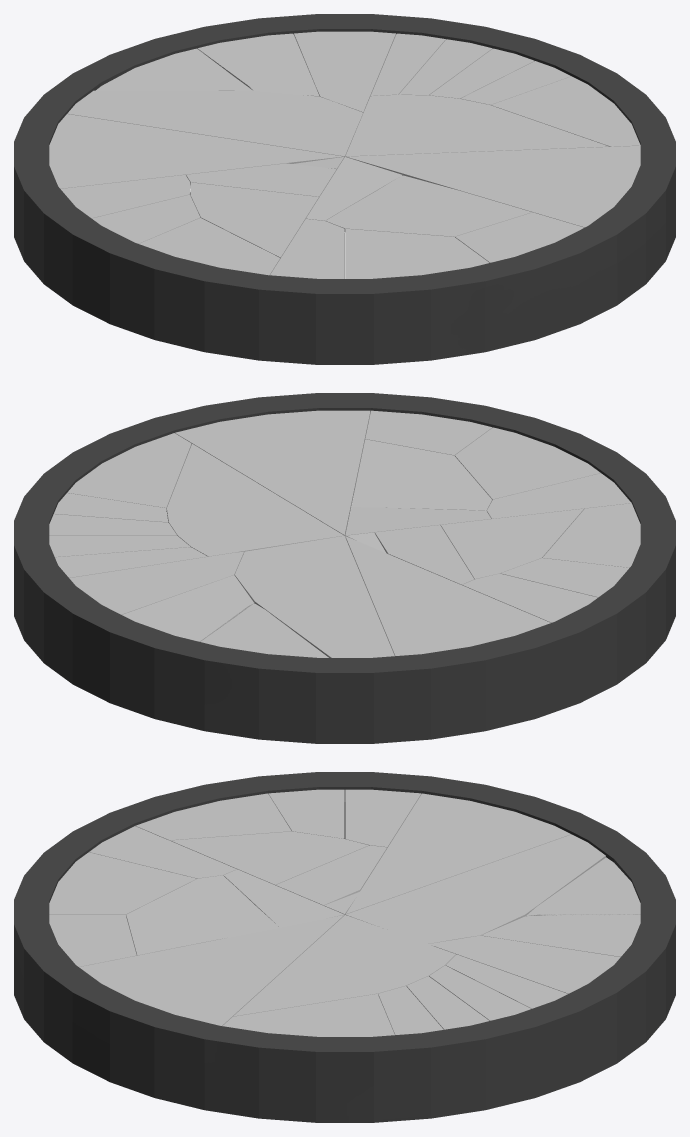
The model's file is BrokenClock.fbx.
3 views of the same model, one above another, from view 1: azimuth 30°, elevation 25°; view 2: azimuth 150°, elevation 25°; view 3: azimuth 270°, elevation 25° (orthographic).
Visible parts, largest first — view 1: Clock, Glass_cell.002, Glass_cell.004_cell.003, Glass_cell.001, Glass_cell.005_cell.004, Glass_cell_cell.003, Glass_cell.003_cell.001, Glass_cell.004_cell.002, Glass_cell_cell, Glass_cell.005_cell.002, Glass_cell.004_cell.004, Glass_cell.003_cell.003 (+11 smaller); view 2: Clock, Glass_cell.002, Glass_cell.004_cell.003, Glass_cell.001, Glass_cell.005_cell.004, Glass_cell_cell.003, Glass_cell_cell, Glass_cell.003_cell.001, Glass_cell.004_cell.002, Glass_cell.005_cell.002, Glass_cell.004_cell.004, Glass_cell.003_cell.003 (+11 smaller); view 3: Clock, Glass_cell.002, Glass_cell.004_cell.003, Glass_cell.001, Glass_cell.005_cell.004, Glass_cell_cell.003, Glass_cell_cell, Glass_cell.003_cell.001, Glass_cell.004_cell.002, Glass_cell.005_cell.002, Glass_cell.004_cell.004, Glass_cell.003_cell.003 (+11 smaller).
Part boxes in pixels (box(x1,y1,x2,y2)): Clock: box(14, 14, 675, 364); Glass_cell.002: box(346, 145, 640, 227); Glass_cell.004_cell.003: box(67, 90, 363, 157); Glass_cell.001: box(49, 114, 343, 188); Glass_cell.005_cell.004: box(345, 94, 609, 156); Glass_cell_cell.003: box(326, 175, 532, 236); Glass_cell.003_cell.001: box(190, 182, 318, 258); Glass_cell.004_cell.002: box(294, 31, 395, 112); Glass_cell_cell: box(345, 228, 489, 278); Glass_cell.005_cell.002: box(491, 76, 640, 146); Glass_cell.004_cell.004: box(197, 33, 319, 96); Glass_cell.003_cell.003: box(139, 218, 280, 275); Clock: box(14, 393, 675, 743); Glass_cell.002: box(175, 410, 370, 535); Glass_cell.004_cell.003: box(234, 536, 394, 657); Glass_cell.001: box(345, 536, 550, 655); Glass_cell.005_cell.004: box(167, 444, 344, 556); Glass_cell_cell.003: box(351, 439, 492, 510); Glass_cell_cell: box(455, 427, 600, 500); Glass_cell.003_cell.001: box(440, 508, 584, 579); Glass_cell.004_cell.002: box(69, 551, 243, 614); Glass_cell.005_cell.002: box(67, 433, 191, 510); Glass_cell.004_cell.004: box(122, 575, 253, 641); Glass_cell.003_cell.003: box(543, 503, 640, 567); Clock: box(14, 772, 675, 1122); Glass_cell.002: box(79, 915, 344, 1025); Glass_cell.004_cell.003: box(346, 834, 605, 943); Glass_cell.001: box(345, 793, 571, 914); Glass_cell.005_cell.004: box(233, 915, 455, 1016); Glass_cell_cell.003: box(126, 875, 278, 955); Glass_cell_cell: box(49, 852, 196, 916); Glass_cell.003_cell.001: box(170, 831, 368, 885); Glass_cell.004_cell.002: box(428, 935, 620, 993); Glass_cell.005_cell.002: box(222, 994, 394, 1036); Glass_cell.004_cell.004: box(481, 914, 640, 956); Glass_cell.003_cell.003: box(135, 793, 291, 840).
Bounding box in the file's own units: 199 × 23.58 × 199.
